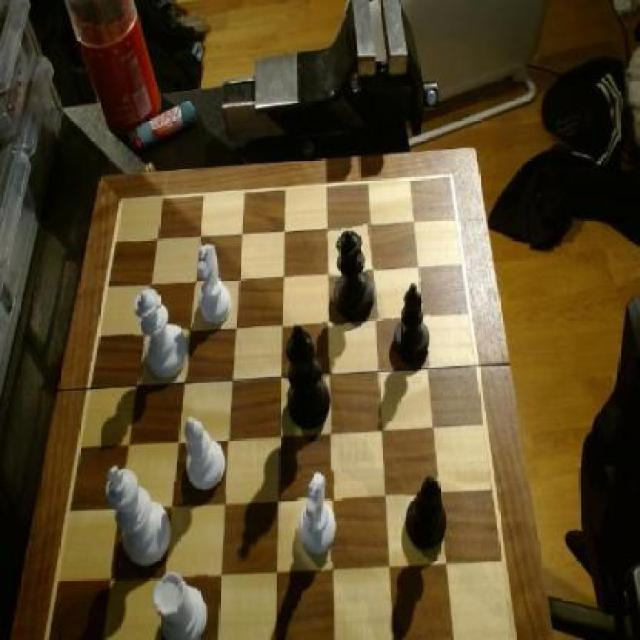bishop: (392, 283, 432, 370), (405, 476, 446, 560)
black-bishop: (284, 320, 334, 434)
black-pawn: (329, 224, 378, 326)
black-rook: (180, 414, 230, 495)
white-bishop: (105, 465, 177, 572)
white-king: (296, 469, 342, 562), (192, 243, 235, 330)
white-pawn: (134, 285, 190, 382)
white-queen: (152, 567, 209, 640)
